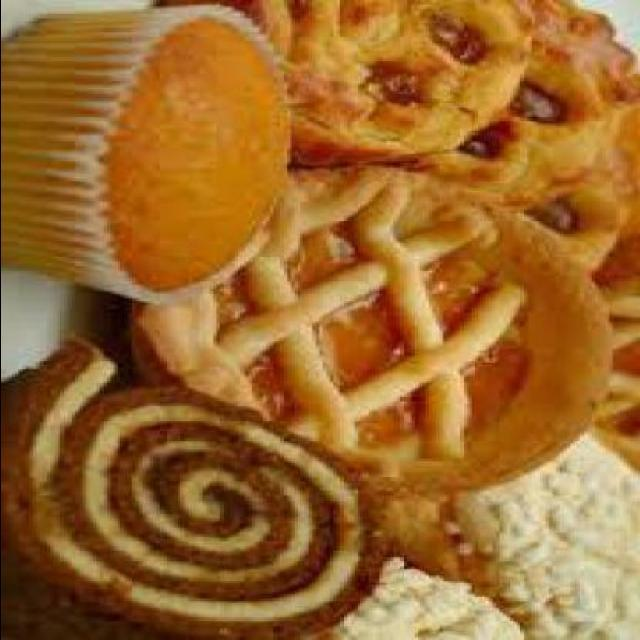Merendine packaged: (113, 160, 619, 504), (3, 330, 392, 638), (3, 2, 294, 300)
